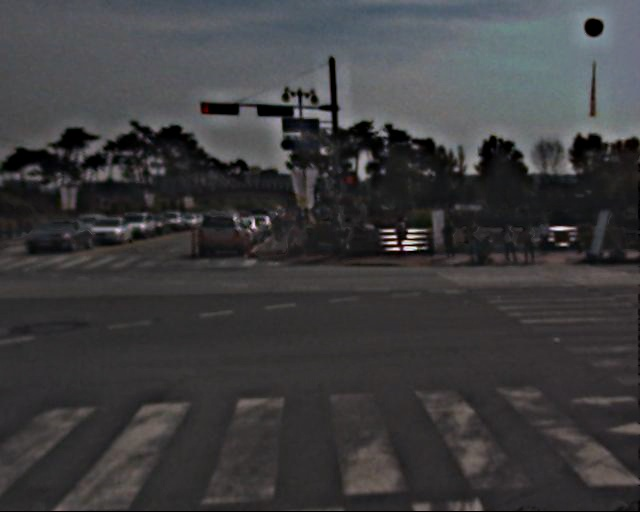person: (273, 210, 312, 242), (329, 213, 350, 264), (465, 214, 486, 264), (522, 221, 541, 267), (499, 221, 517, 266), (536, 215, 554, 260), (443, 216, 460, 257), (397, 217, 413, 255)
